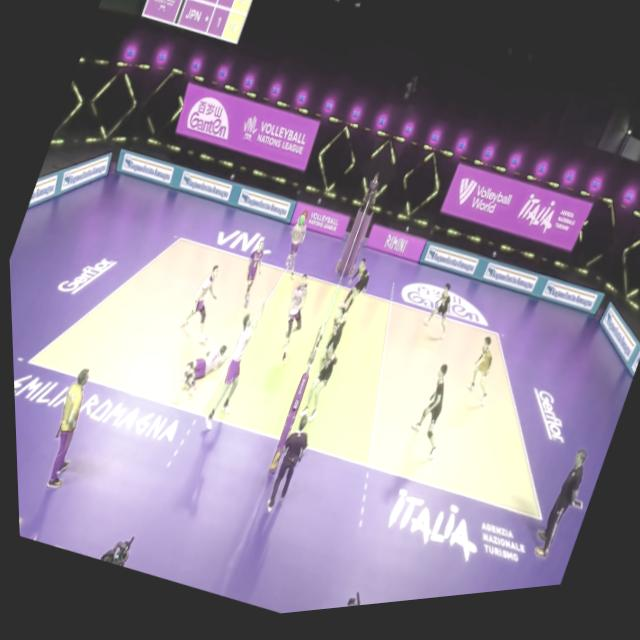player: (192, 295, 272, 441), (395, 364, 465, 474), (261, 276, 321, 374), (292, 343, 345, 438), (170, 331, 231, 409), (174, 262, 228, 346), (226, 238, 276, 319), (456, 340, 506, 414), (330, 260, 376, 333), (415, 286, 465, 351), (271, 216, 315, 287), (313, 310, 352, 375)
